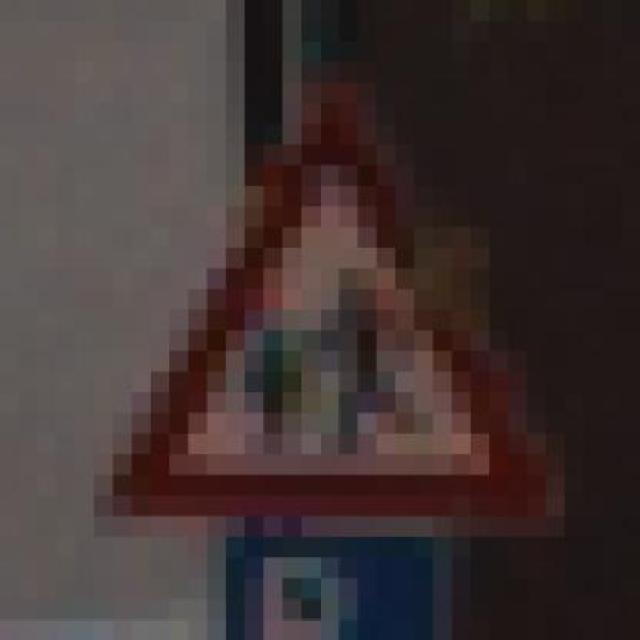Beware of children: (80, 78, 568, 554)
